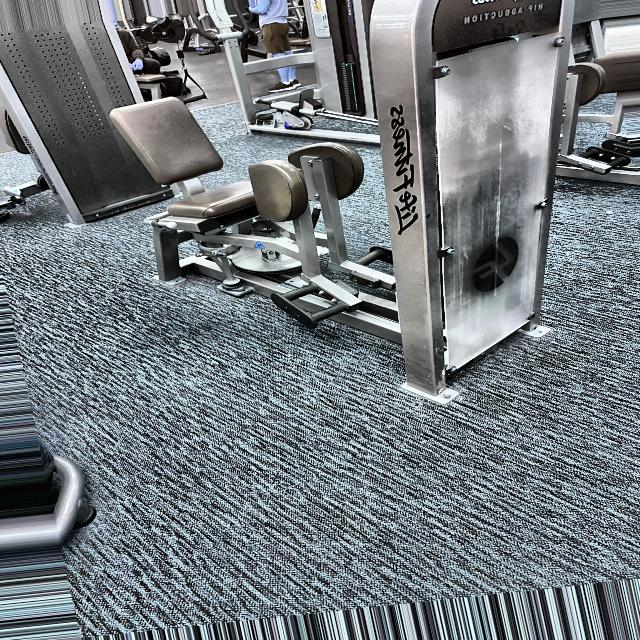hip_adduction_machine: (103, 79, 384, 332), (248, 130, 387, 310), (455, 0, 559, 44)
